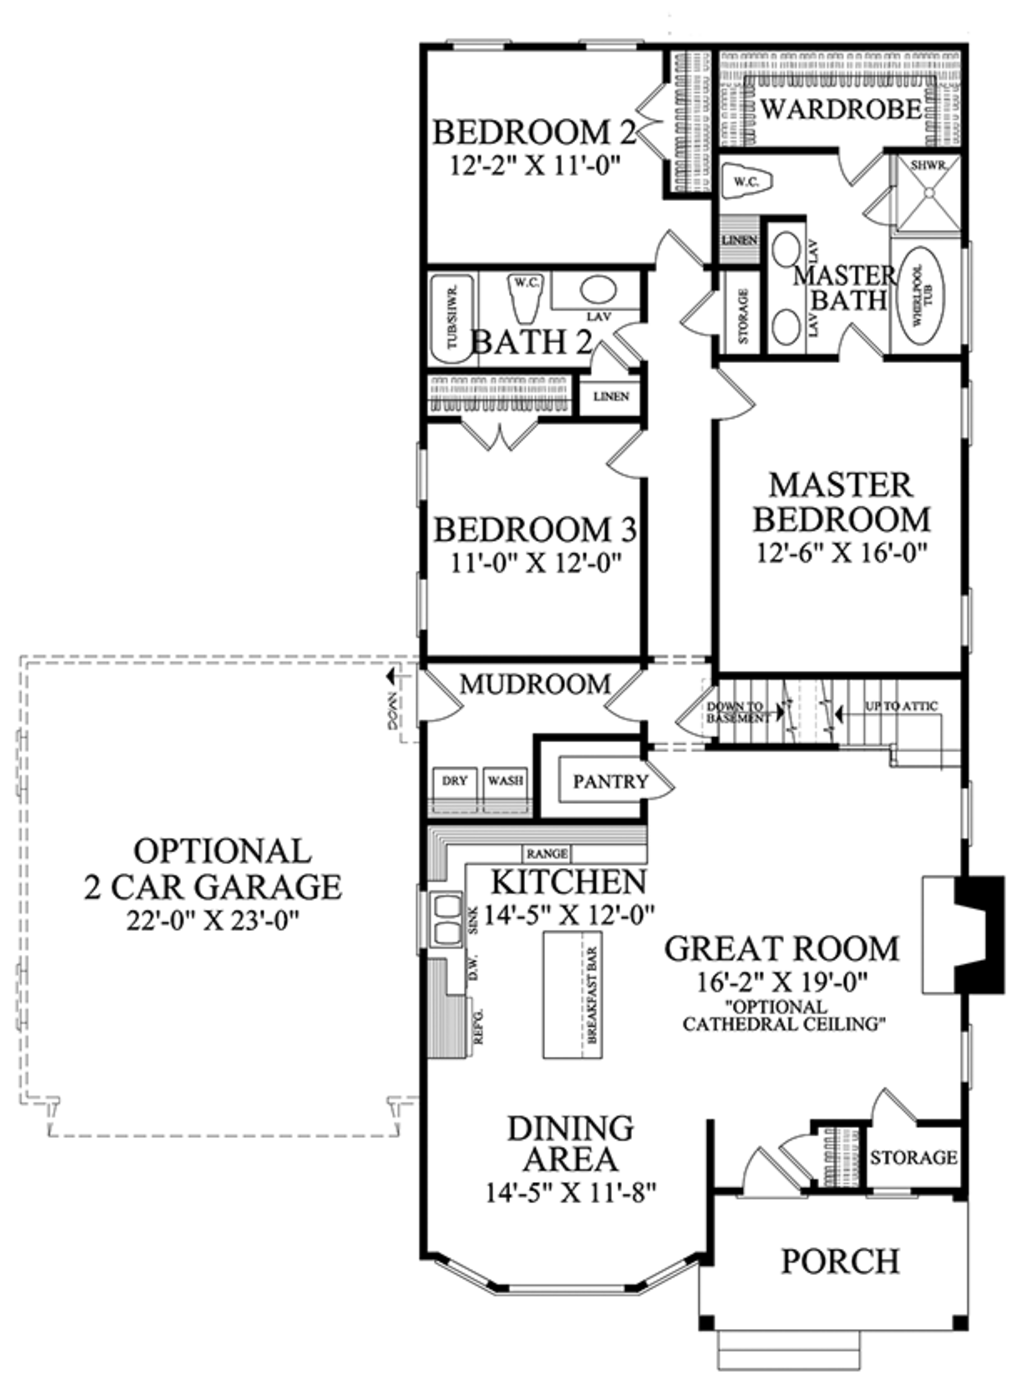door: (454, 405, 546, 461), (741, 1142, 820, 1204), (632, 61, 683, 154), (701, 365, 770, 425), (594, 659, 656, 725), (677, 271, 733, 342), (414, 659, 470, 725), (654, 225, 717, 276), (607, 426, 657, 489), (830, 316, 891, 368), (826, 138, 886, 184), (678, 674, 720, 736), (636, 754, 675, 814), (783, 1126, 821, 1188), (867, 1085, 921, 1126), (611, 316, 654, 366), (580, 344, 637, 381), (861, 185, 900, 232)
large_sink: (720, 142, 778, 211), (507, 265, 547, 336)
small_sink: (760, 214, 814, 350), (544, 261, 651, 309)
stairs: (721, 674, 967, 769)
tub: (427, 272, 477, 362)
twin_sink: (418, 875, 483, 952)
window: (950, 585, 987, 668), (398, 436, 437, 515), (958, 241, 980, 351), (441, 35, 516, 66), (948, 776, 977, 852), (956, 1025, 986, 1092), (957, 379, 983, 455), (577, 31, 653, 56), (410, 569, 437, 639)
